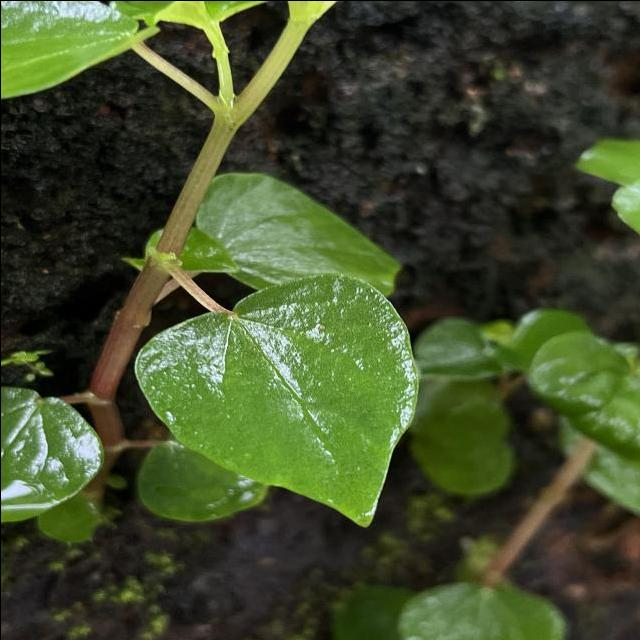Peperomia pellucida: (133, 269, 419, 530)
